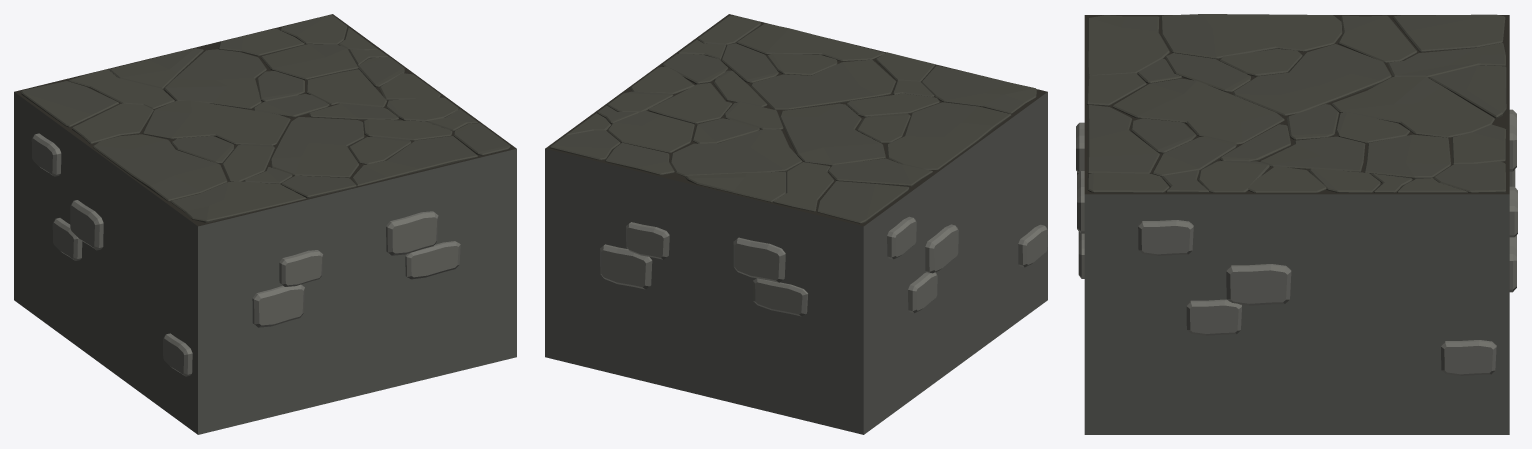
Rendered from Stairs_Platform.glb.
3 views of the same model, side by side, from view 1: azimuth 30°, elevation 25°; view 2: azimuth 150°, elevation 25°; view 3: azimuth 270°, elevation 25° (orthographic). The views are drawn at different scales.
Visible parts, largest first — view 1: Stairs_Platform.001; view 2: Stairs_Platform.001; view 3: Stairs_Platform.001.
Part boxes in pixels (bbox=[...]): Stairs_Platform.001: bbox=[14, 14, 516, 434]; Stairs_Platform.001: bbox=[545, 14, 1047, 434]; Stairs_Platform.001: bbox=[1076, 14, 1517, 434].
Bounding box in the file's own units: 4.15 × 2.53 × 4.16.
Materials: 2 (2 with a texture image).
